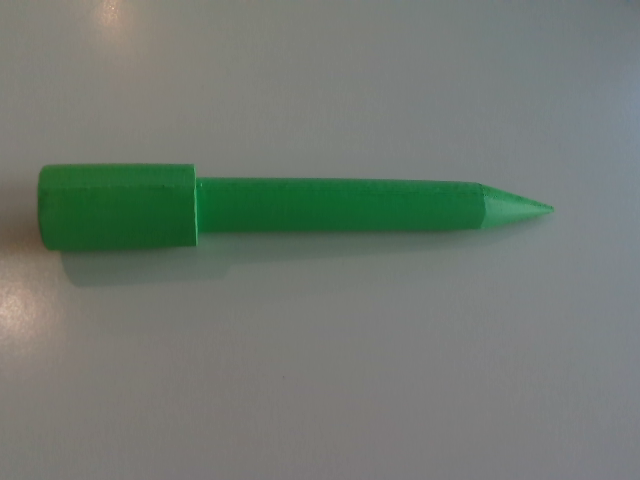Probe: (36, 157, 563, 251)
